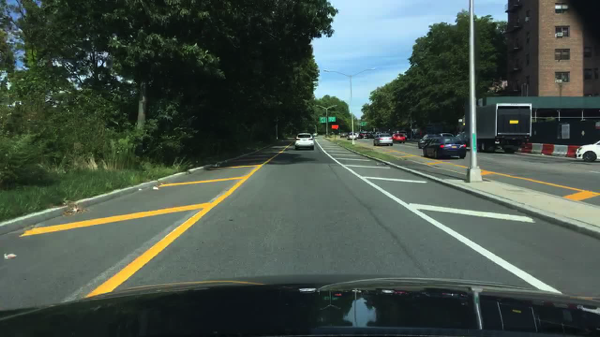car: (423, 137, 466, 158), (575, 140, 600, 162), (296, 133, 314, 151), (373, 133, 394, 148), (419, 135, 435, 148), (393, 133, 405, 144), (438, 132, 453, 138), (349, 132, 357, 140), (397, 129, 406, 136), (368, 132, 377, 138), (341, 132, 348, 138), (312, 132, 320, 137), (358, 132, 363, 138), (330, 132, 335, 137), (364, 132, 369, 137)
traffic sign: (328, 115, 336, 123), (359, 120, 366, 127), (320, 117, 326, 123)
truck: (458, 102, 533, 154)
